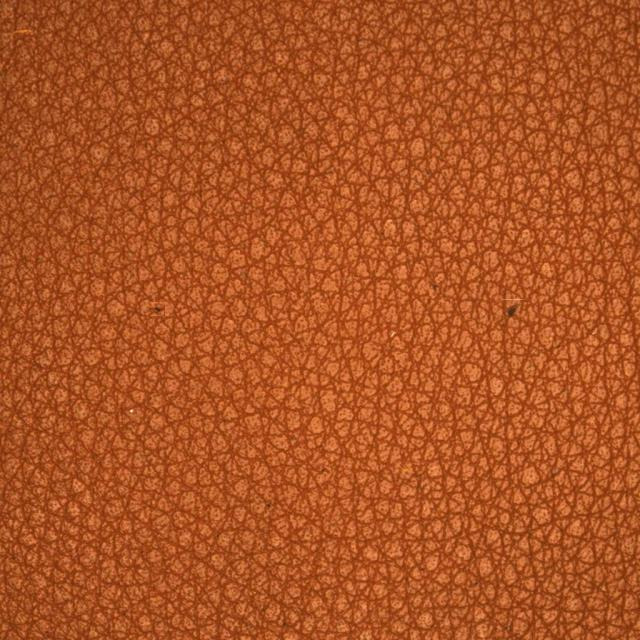Hole: (446, 225, 577, 398), (98, 236, 225, 380)
